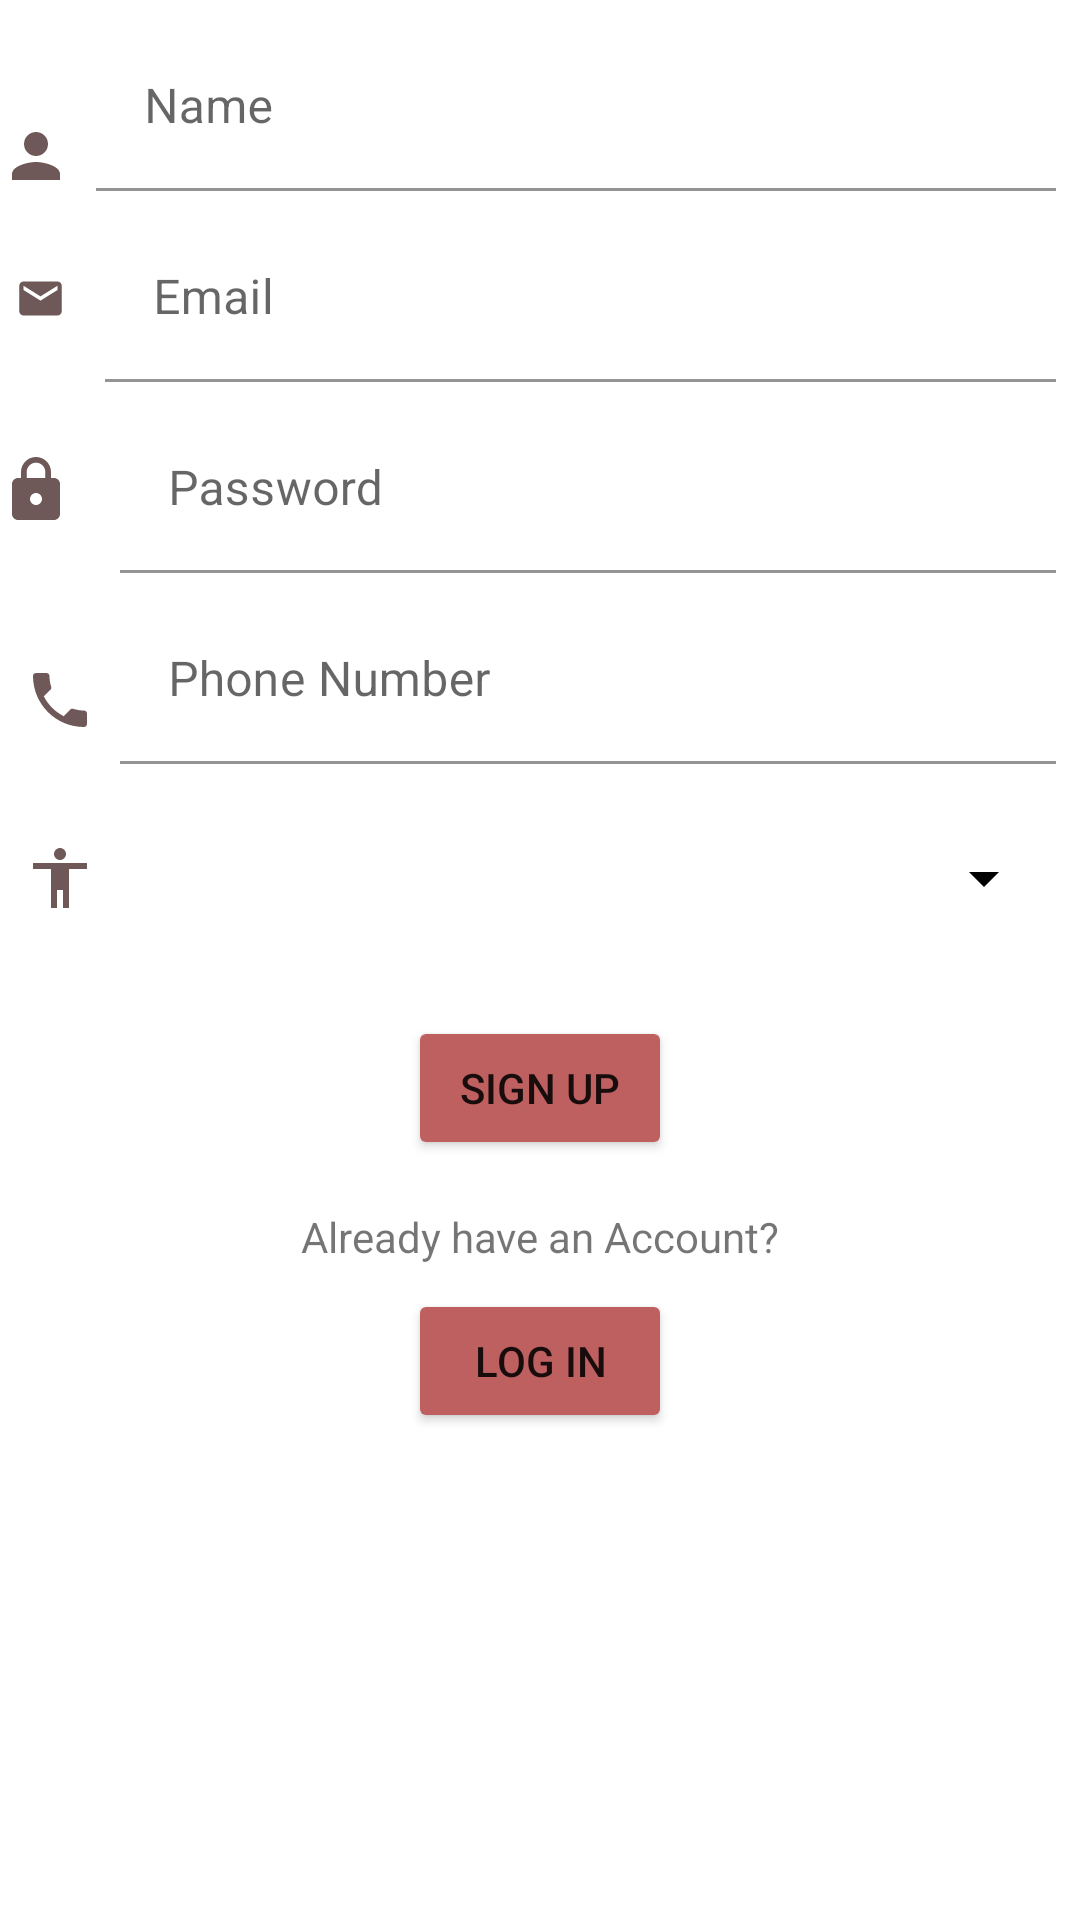

Icon click points for this 1080px x 1920px phone screenshot, format point (x, y):
accessibility: point (60, 878)
local phone: point (60, 700)
lock: point (36, 488)
person: point (36, 156)
